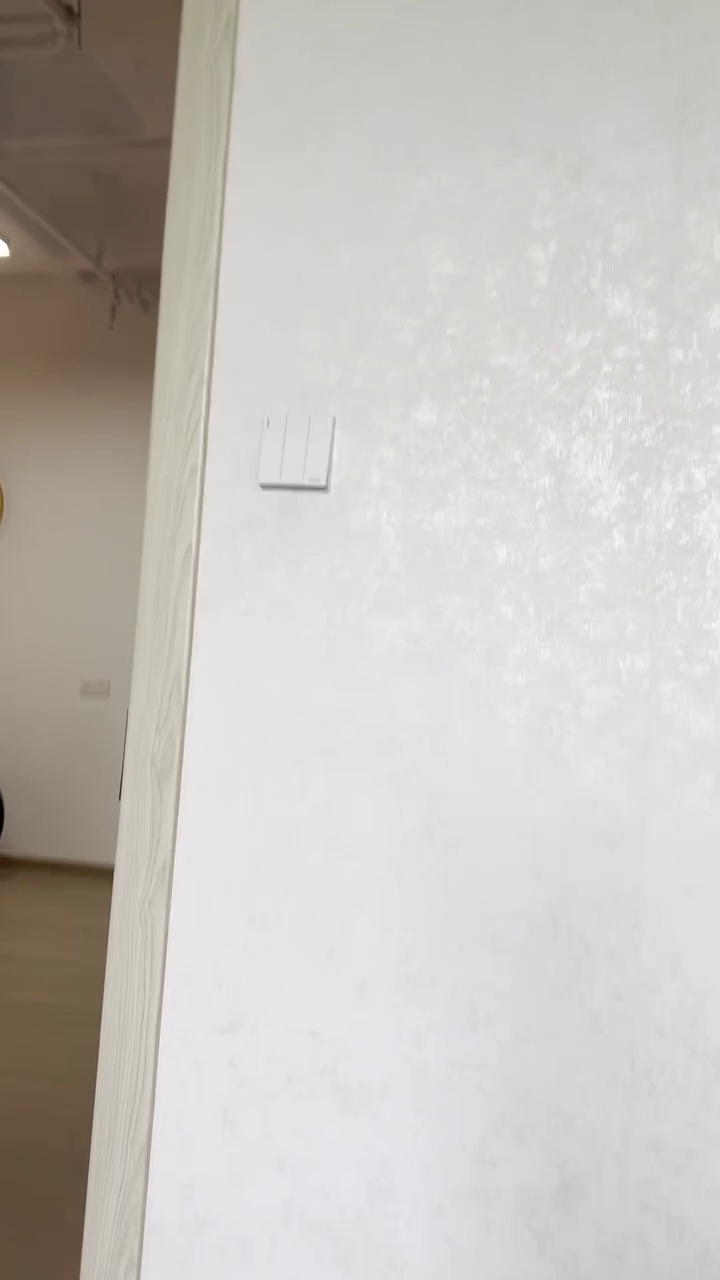button: (254, 406, 340, 492)
